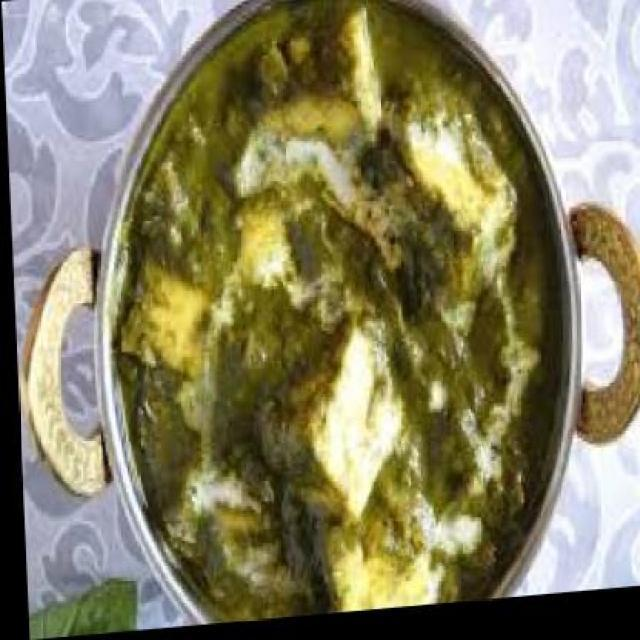palakpaneer: (97, 0, 568, 634)
